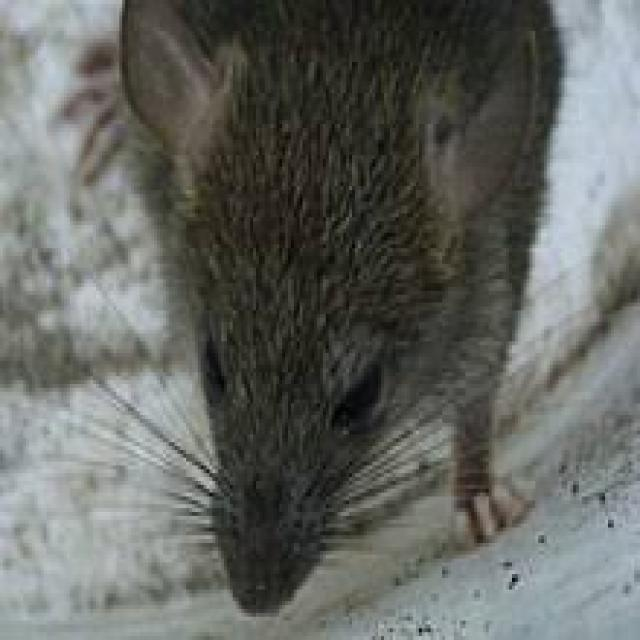Rat: (111, 0, 566, 622)
